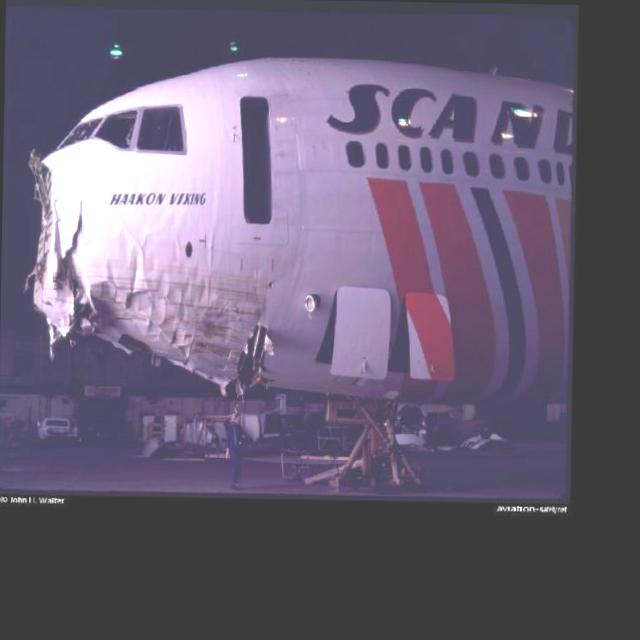crack: (58, 196, 92, 292)
dent: (100, 230, 240, 374)
